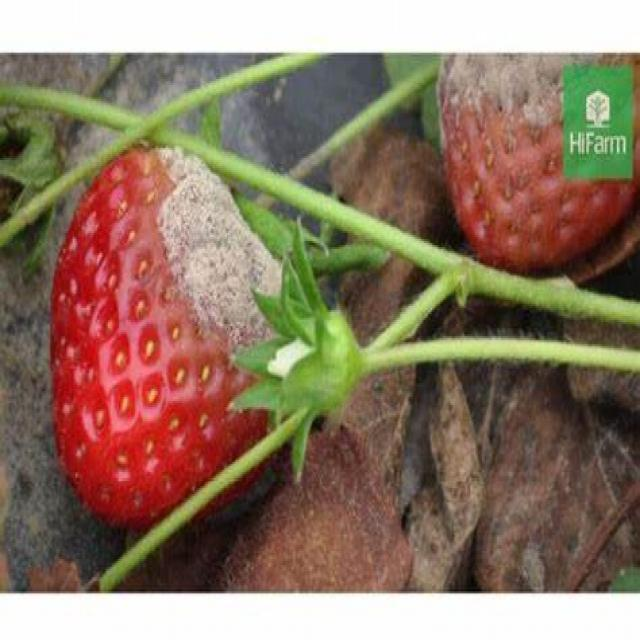Mancha negra Antracnosis: (44, 148, 314, 514), (437, 55, 640, 268)
